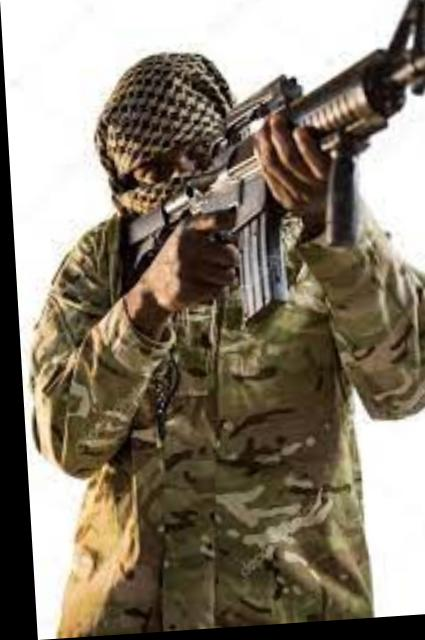other: (23, 41, 424, 638)
